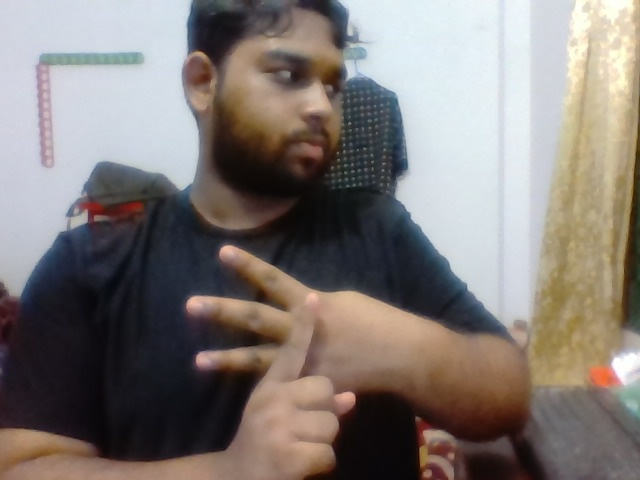E: (155, 227, 406, 477)
